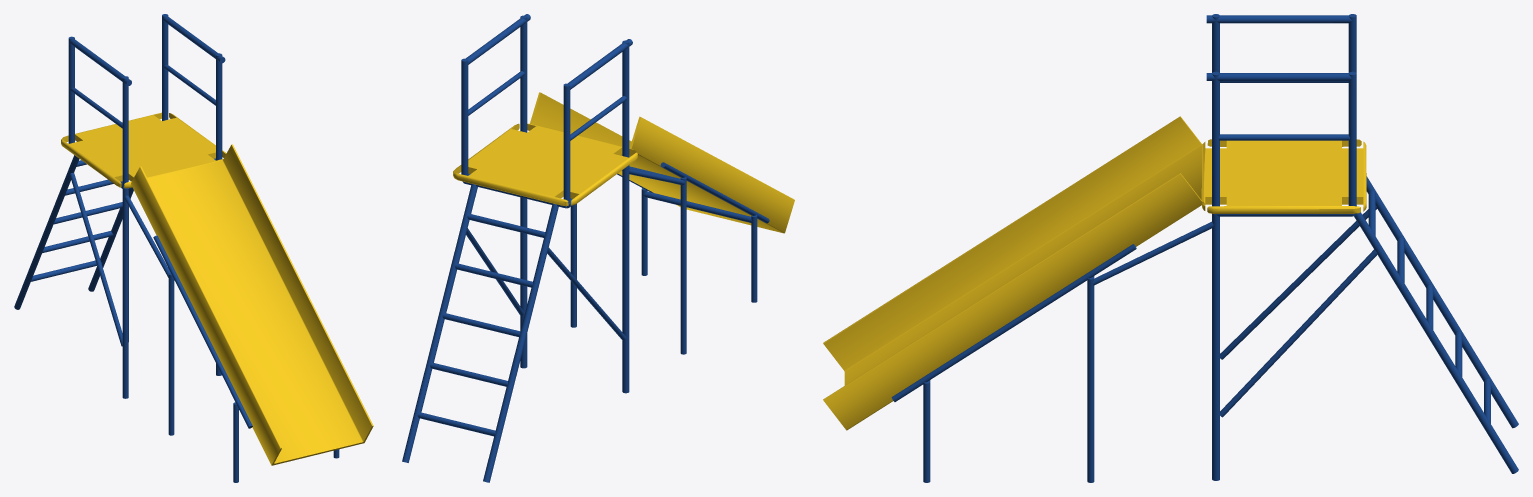
Rendered from slide.glb.
3 views of the same model, side by side, from view 1: azimuth 30°, elevation 25°; view 2: azimuth 150°, elevation 25°; view 3: azimuth 270°, elevation 25° (orthographic). The views are drawn at different scales.
Parts seen in each view (by area): view 1: chute, frame, deck, railings; view 2: frame, chute, deck, railings; view 3: chute, frame, deck, railings.
Boxes of the visible parts, x1,y1,x2,y2 form: chute: [131, 144, 373, 465]; frame: [14, 155, 339, 482]; deck: [61, 112, 226, 188]; railings: [68, 14, 225, 185]; frame: [402, 162, 769, 482]; chute: [530, 92, 794, 233]; deck: [453, 123, 637, 206]; railings: [461, 14, 632, 203]; chute: [823, 116, 1202, 430]; frame: [891, 176, 1518, 482]; deck: [1202, 139, 1366, 213]; railings: [1206, 14, 1356, 206].
Bounding box in the file's own units: 0.6991 × 1.9 × 2.95.
